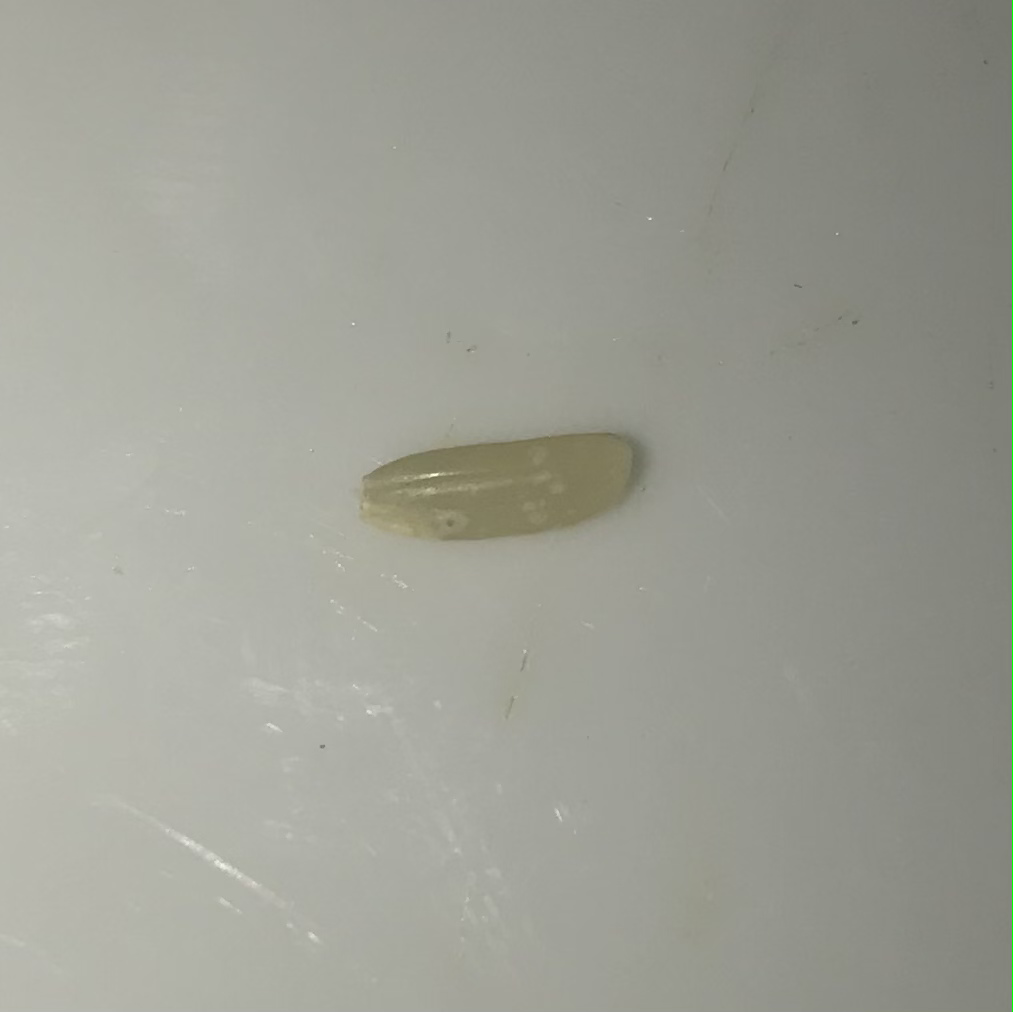Gao Lut Trang: (359, 419, 654, 562)
